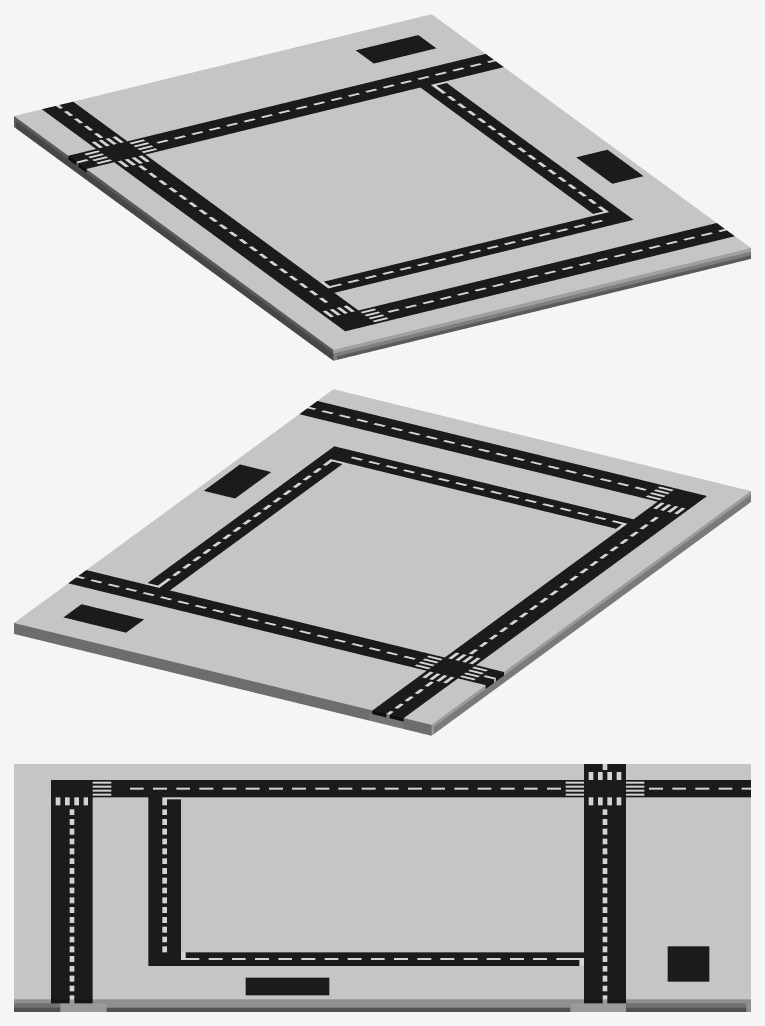
File: road name.obj
The picture shows the model from 3 angles, top to bottom: view 1: azimuth 30°, elevation 25°; view 2: azimuth 150°, elevation 25°; view 3: azimuth 270°, elevation 25°; orthographic projection. The views are drawn at different scales.
Size of the model in its own units: 12 by 0.3 by 15.9.
Materials: 1 (1 with a texture image).
